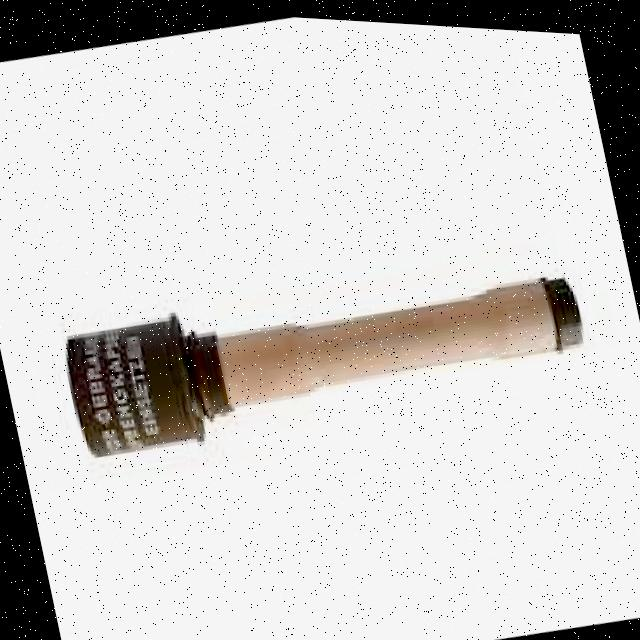grenade: (24, 209, 600, 520)
